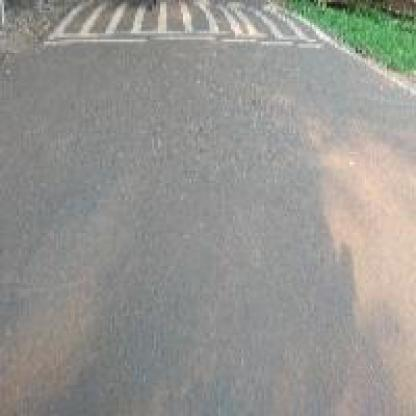Speed Bump: (41, 2, 326, 48), (302, 4, 326, 25), (262, 214, 283, 223)
